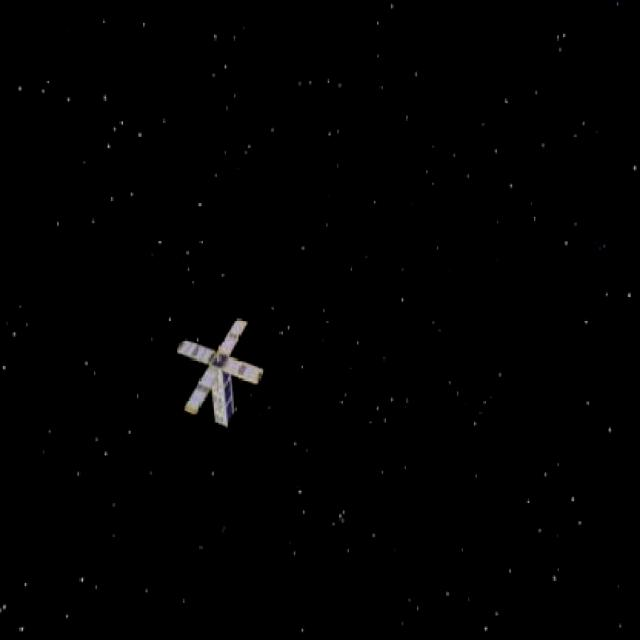satellite: (161, 315, 263, 425)
